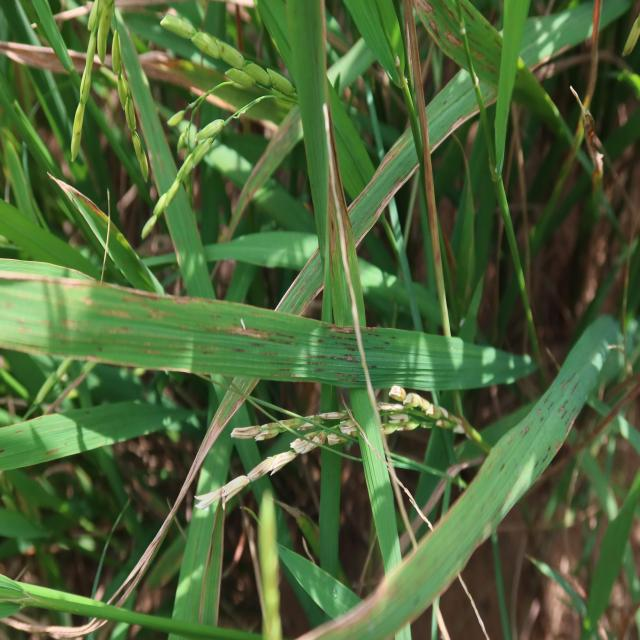Dom soc vi khuan: (0, 270, 365, 388)
